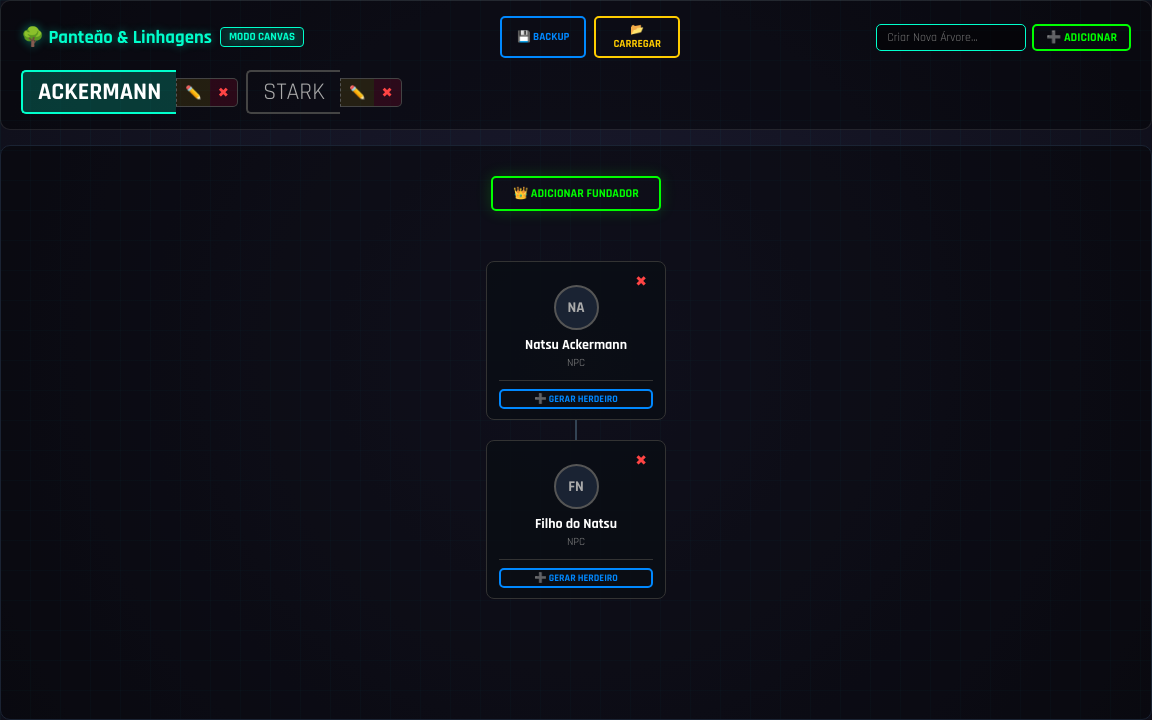
Test: Arvore - com DialogosSextaProvider › renomear cancelado por Esc nao muda nada
This screenshot has width=1152, height=720.
Click the 2nd button titled "Renomear Árvore" at coordinates (357, 92), box [340,78,374,106]
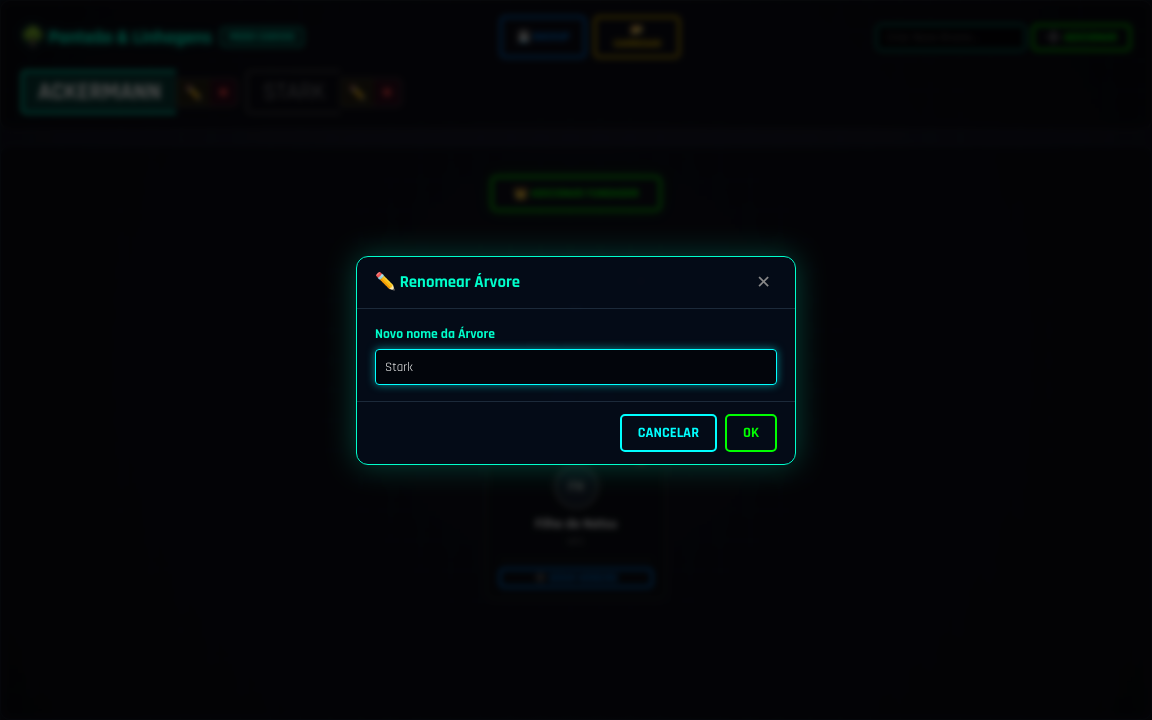
Press Escape
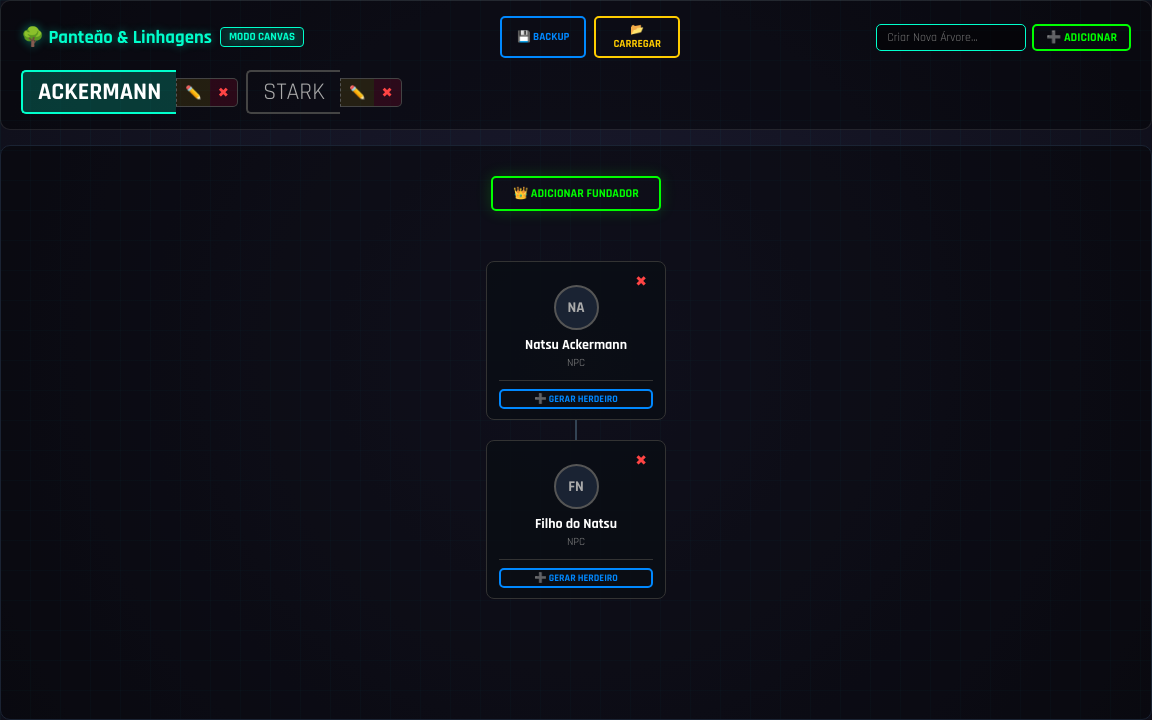
expect the dialog is gone: met
